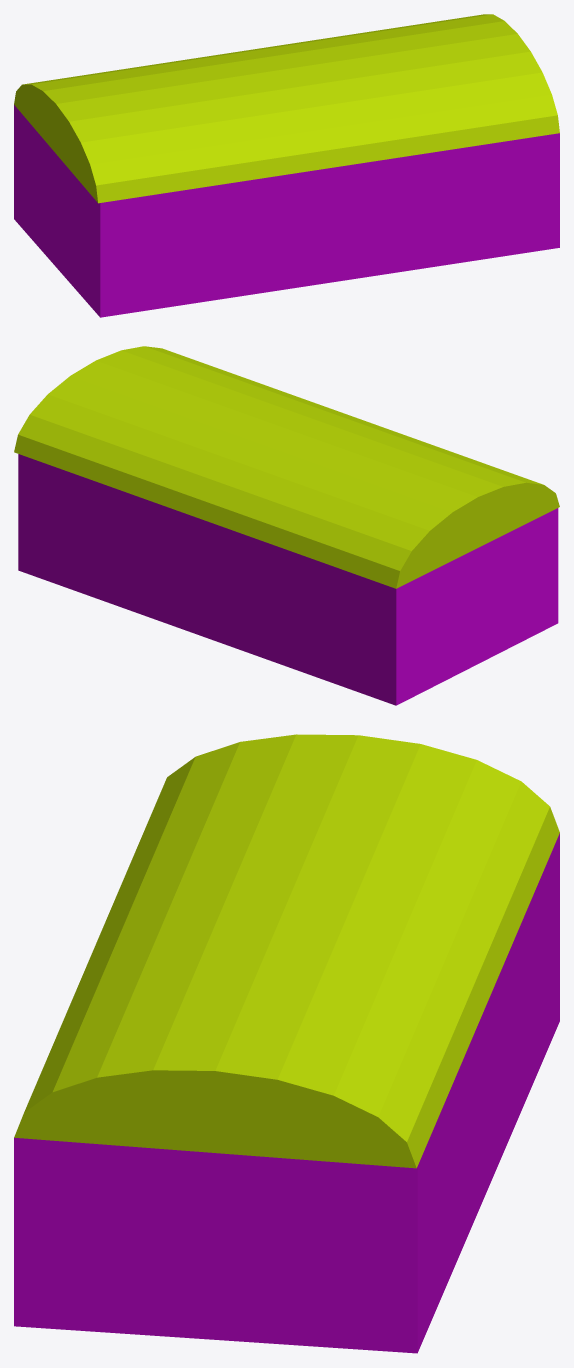
Rendered from rmc_143.glb.
3 views of the same model, one above another, from view 1: azimuth 30°, elevation 25°; view 2: azimuth 150°, elevation 25°; view 3: azimuth 270°, elevation 25° (orthographic). The views are drawn at different scales.
Parts seen in each view (by area): view 1: rmc_143; view 2: rmc_143; view 3: rmc_143.
Part boxes in pixels (left/top/right/bottom): rmc_143: left=14, top=14, right=559, bottom=317; rmc_143: left=14, top=346, right=559, bottom=705; rmc_143: left=14, top=734, right=559, bottom=1353.
Size of the model in its own units: 18.2 by 6.27 by 11.46.
